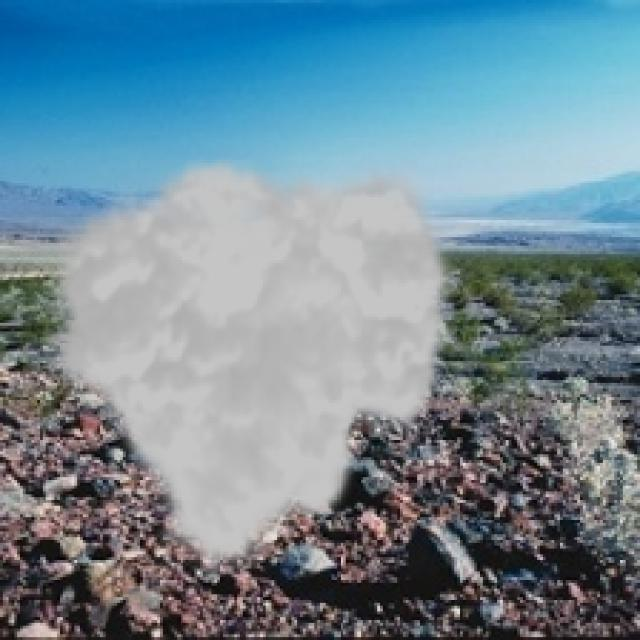Smoke: (37, 155, 460, 580)
